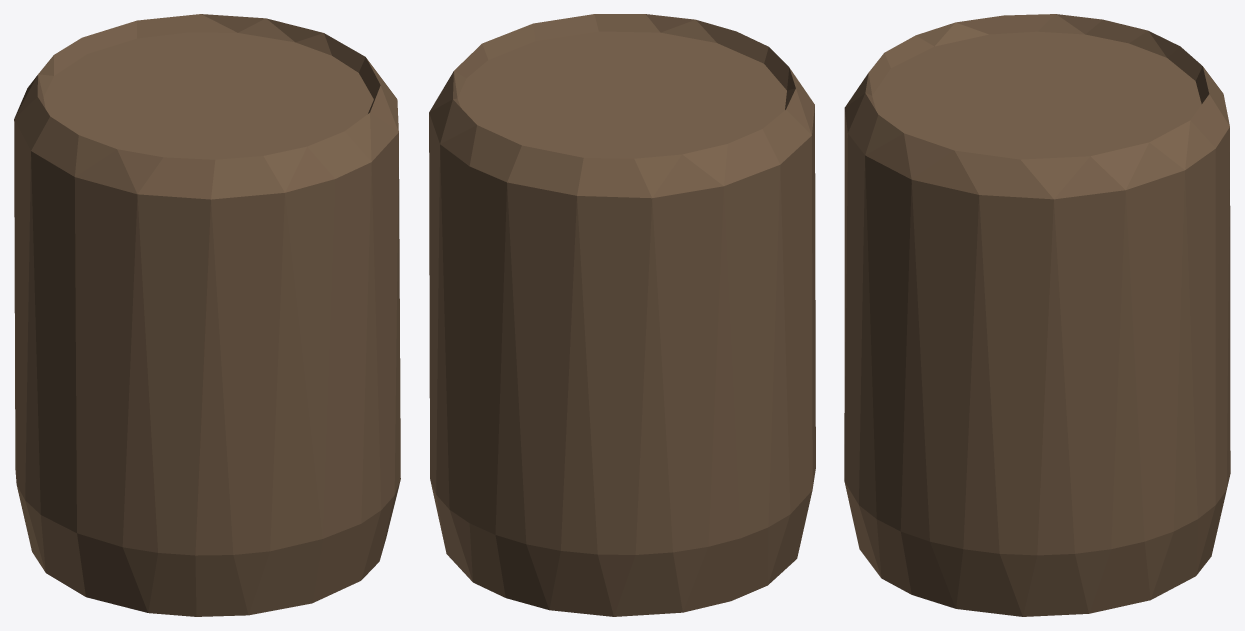
The model's file is Barrel.fbx.
3 renders of one model, left to right at view 1: azimuth 30°, elevation 25°; view 2: azimuth 150°, elevation 25°; view 3: azimuth 270°, elevation 25°, orthographic.
Visible parts, largest first — view 1: Cylinder; view 2: Cylinder; view 3: Cylinder.
Boxes of the visible parts, x1=… form: Cylinder: x1=14, y1=14, x2=400, y2=616; Cylinder: x1=429, y1=14, x2=815, y2=616; Cylinder: x1=844, y1=14, x2=1230, y2=616.
Bounding box in the file's own units: 80.26 × 104 × 80.17.
